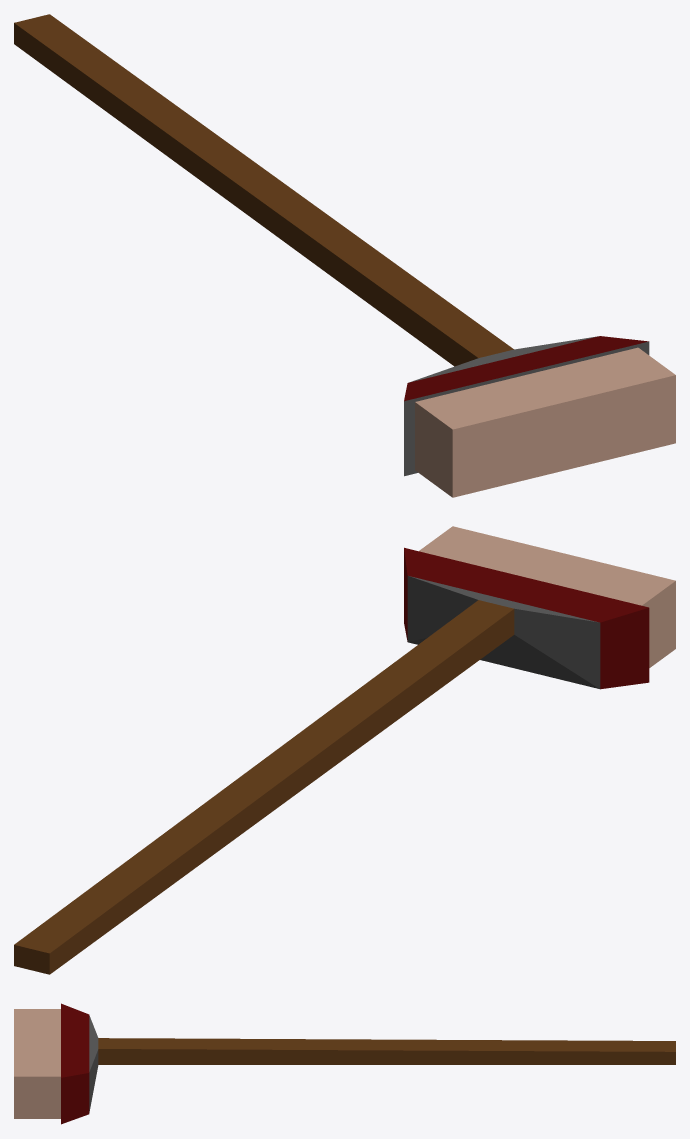
File: vassoura.fbx
3 renders of one model, top to bottom at view 1: azimuth 30°, elevation 25°; view 2: azimuth 150°, elevation 25°; view 3: azimuth 270°, elevation 25°, orthographic. The views are drawn at different scales.
Visible parts, largest first — view 1: pCube1; view 2: pCube1; view 3: pCube1.
Boxes of the visible parts, x1=… form: pCube1: x1=14, y1=14, x2=675, y2=497; pCube1: x1=14, y1=526, x2=675, y2=974; pCube1: x1=14, y1=1003, x2=675, y2=1124.
Bounding box in the file's own units: 12.09 × 3.53 × 45.42.
